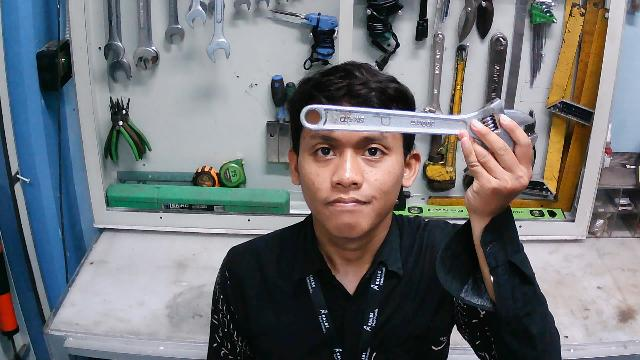kunci_inggris: (297, 99, 538, 153)
